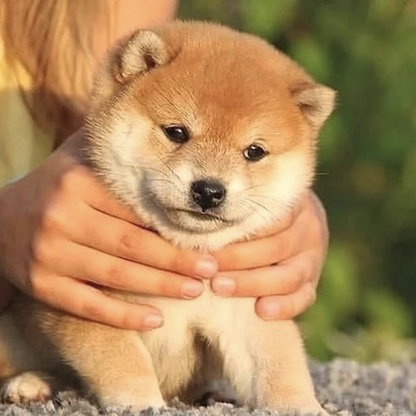shiba: (26, 15, 347, 416)
